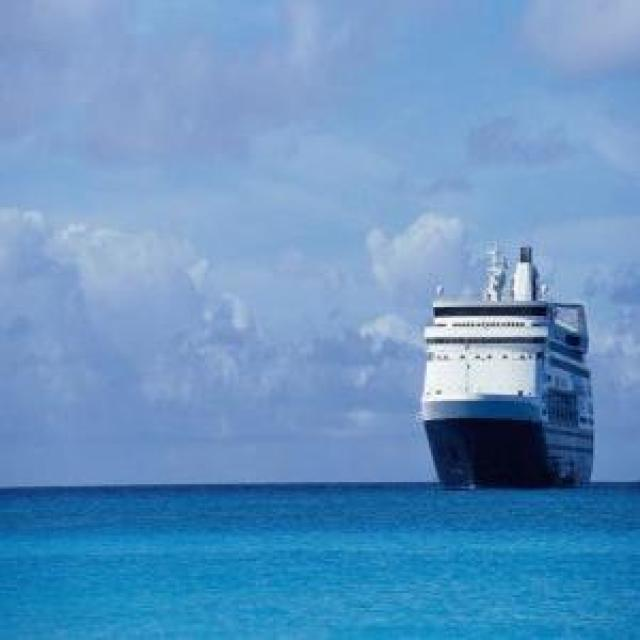passenger ship: (413, 238, 599, 486)
